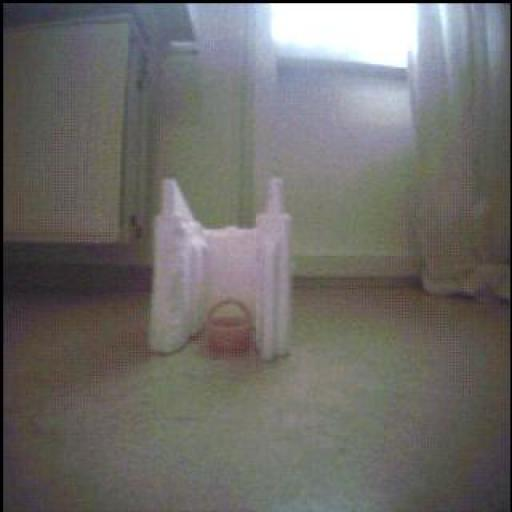Basket: (206, 300, 254, 355)
